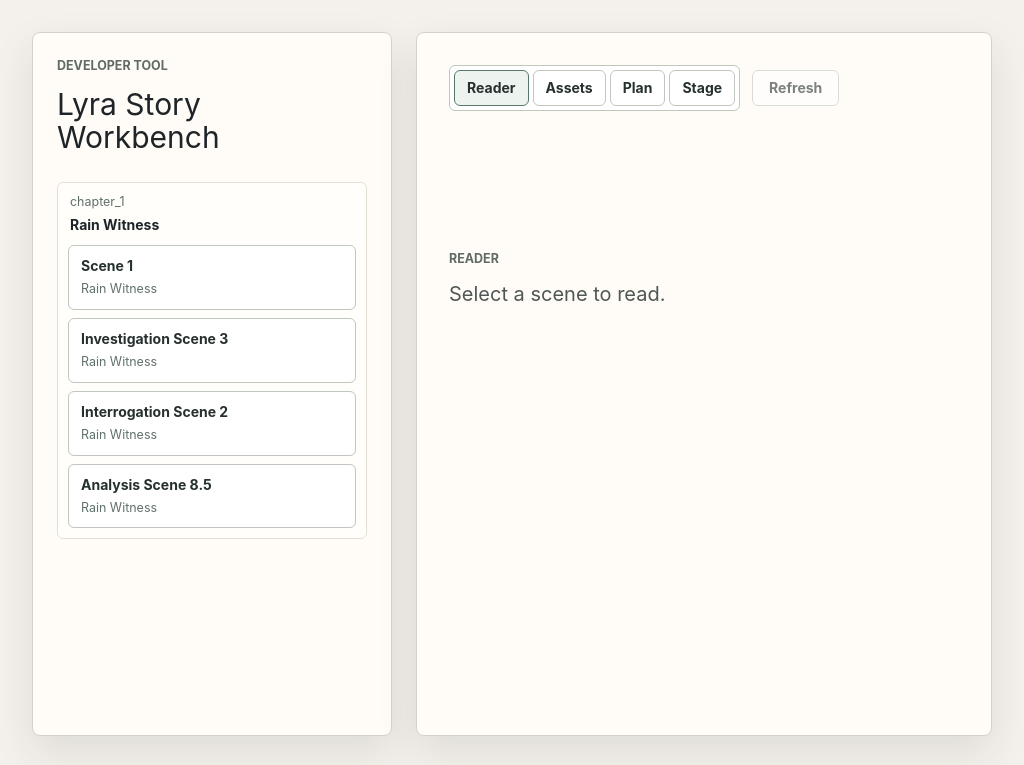
Test: Lyra Story Workbench shell › expands branches and searches Reader text
The image size is (1024, 765).
Click the button "Interrogation Scene 2 Rain Witness" at (155, 411), box 68,391 -> 356,456
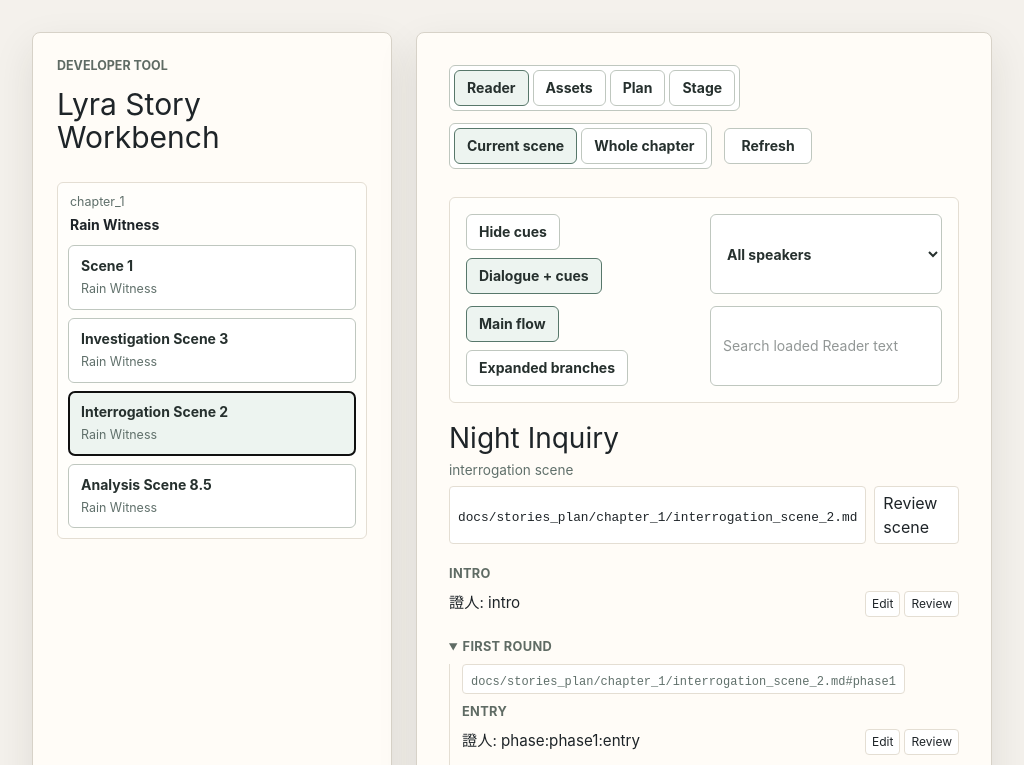
Check: the text "證人: phase:phase1:entry" is shown, box 462,729 -> 640,754
Click the button "Expanded branches" at (547, 368), box 466,350 -> 628,386
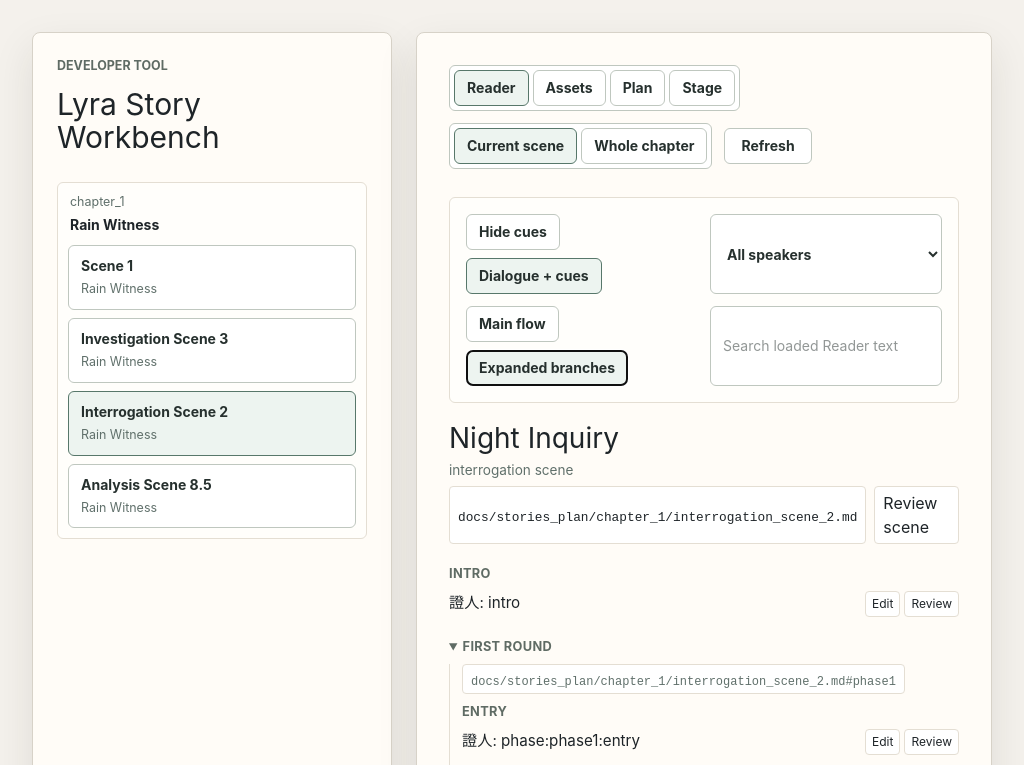
Type "ONLOOP" into the search field labelled "Search loaded Reader text" at (826, 346), box 710,306 -> 942,386
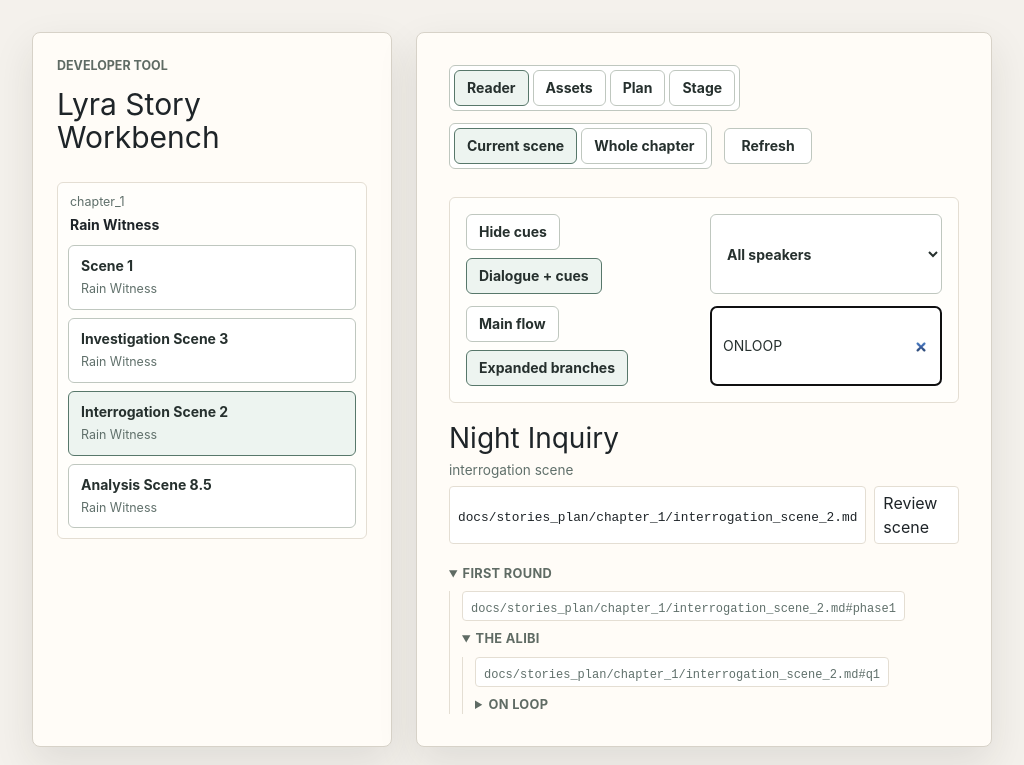
Check: the heading "First Round" is shown, box 462,566 -> 552,581
Check: the text "證人: phase:phase1:entry" is gone
Clear the search field named "Search loaded Reader text" at (826, 346), box 710,306 -> 942,386
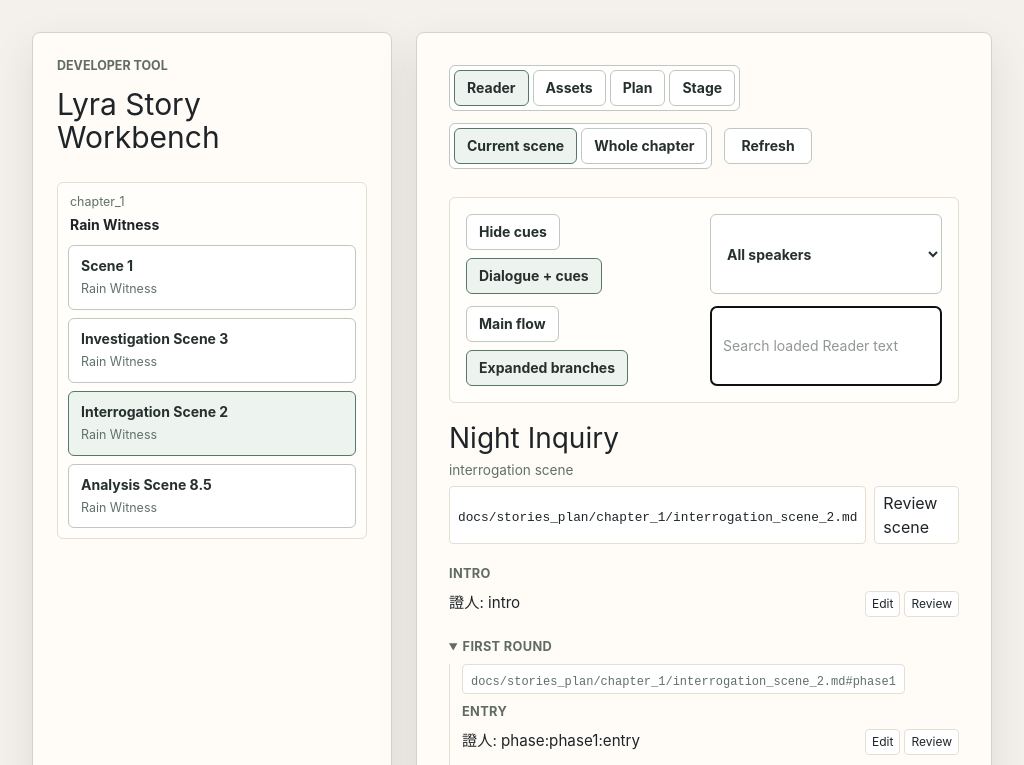
Check: the text "證人: phase:phase1:entry" is shown, box 462,729 -> 640,754
